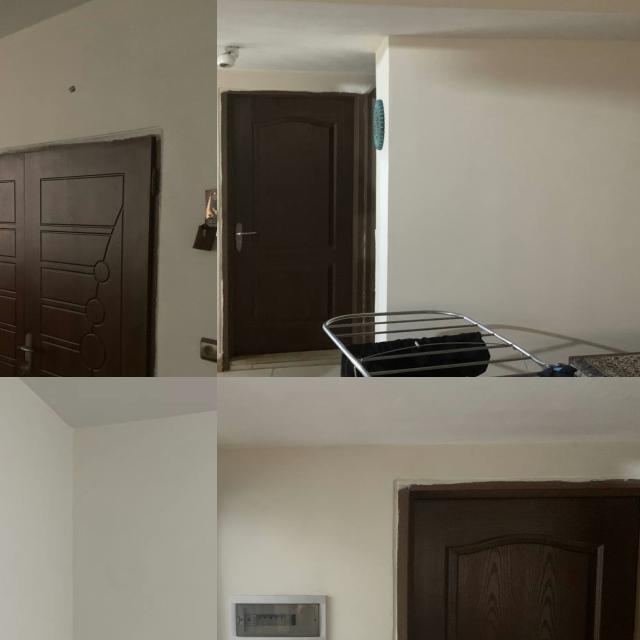Wall: (377, 19, 640, 354), (217, 446, 640, 640), (217, 55, 372, 372), (72, 410, 217, 640)
